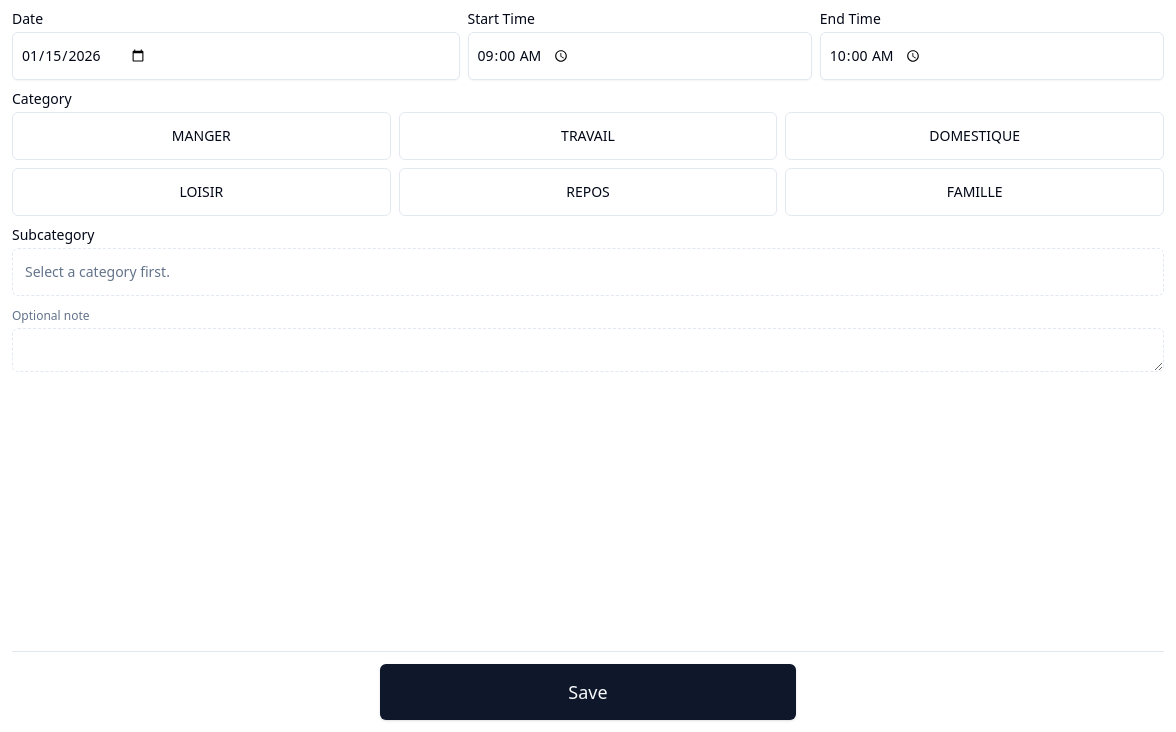
it: ActivityForm › disables submit and fields while saving
Click the button "TRAVAIL" at point(588, 136), box [399,112,777,160]
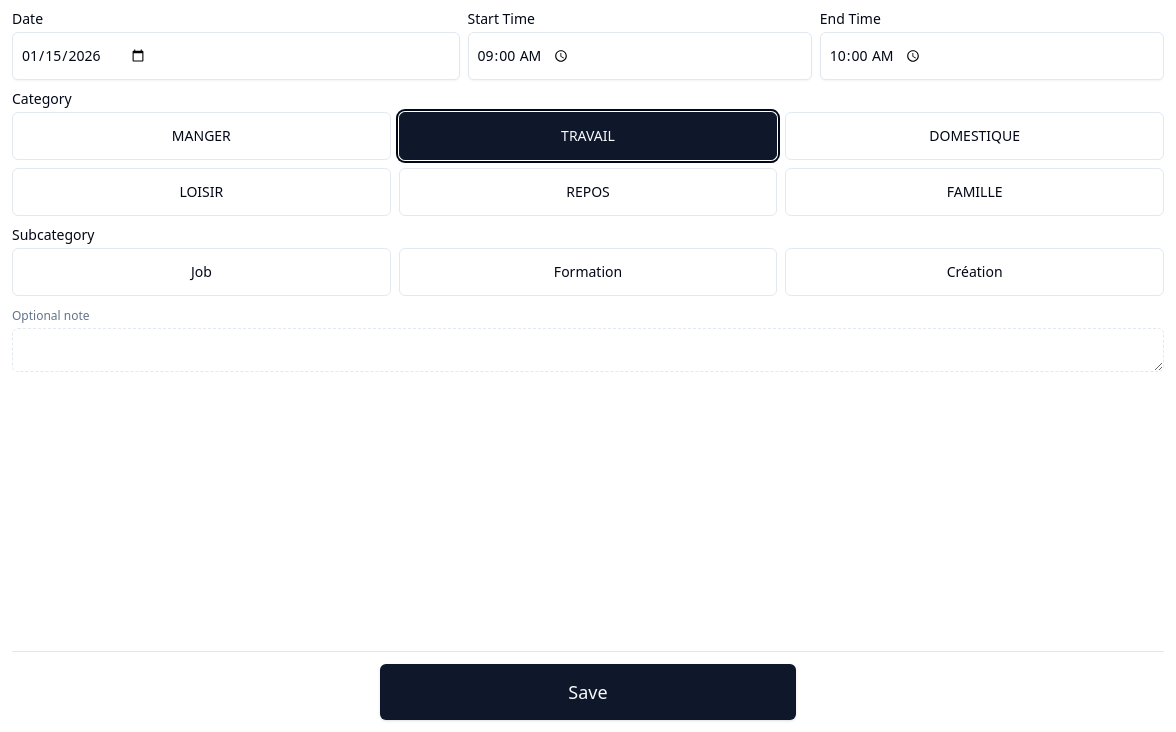
Click the button "Job" at point(201, 272), box [12,248,391,296]
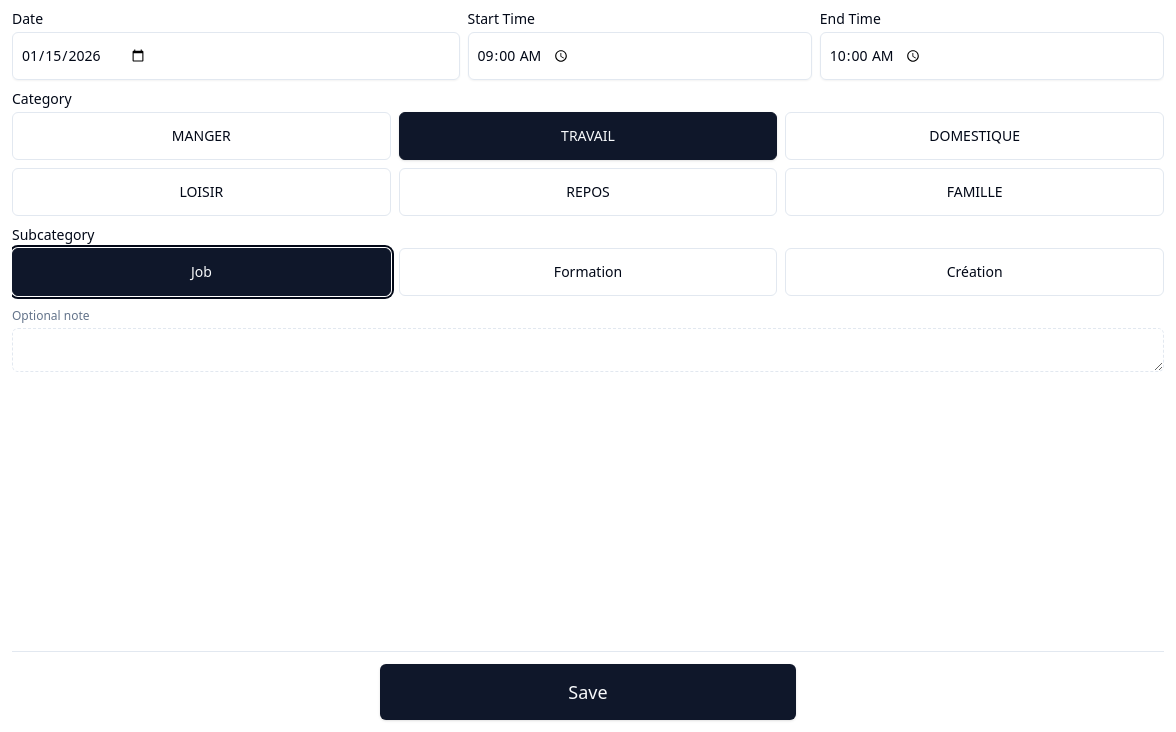
Click the button "Save" at point(588, 692), box [380,664,796,720]
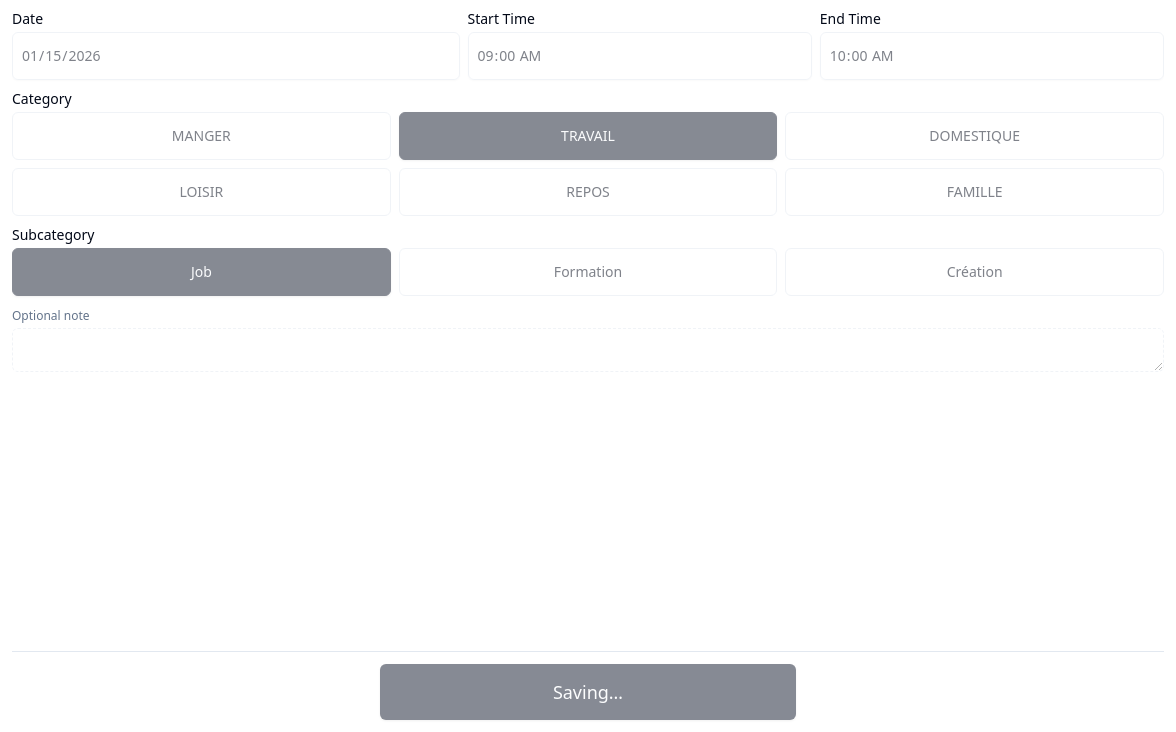
expect the button "Saving…" is disabled: met, box [380,664,796,720]
expect the date field labelled "Date" is disabled: met, box [12,32,460,80]
expect the button "MANGER" is disabled: met, box [12,112,391,160]
Submit the form named "Saving…", box [12,12,1164,372]
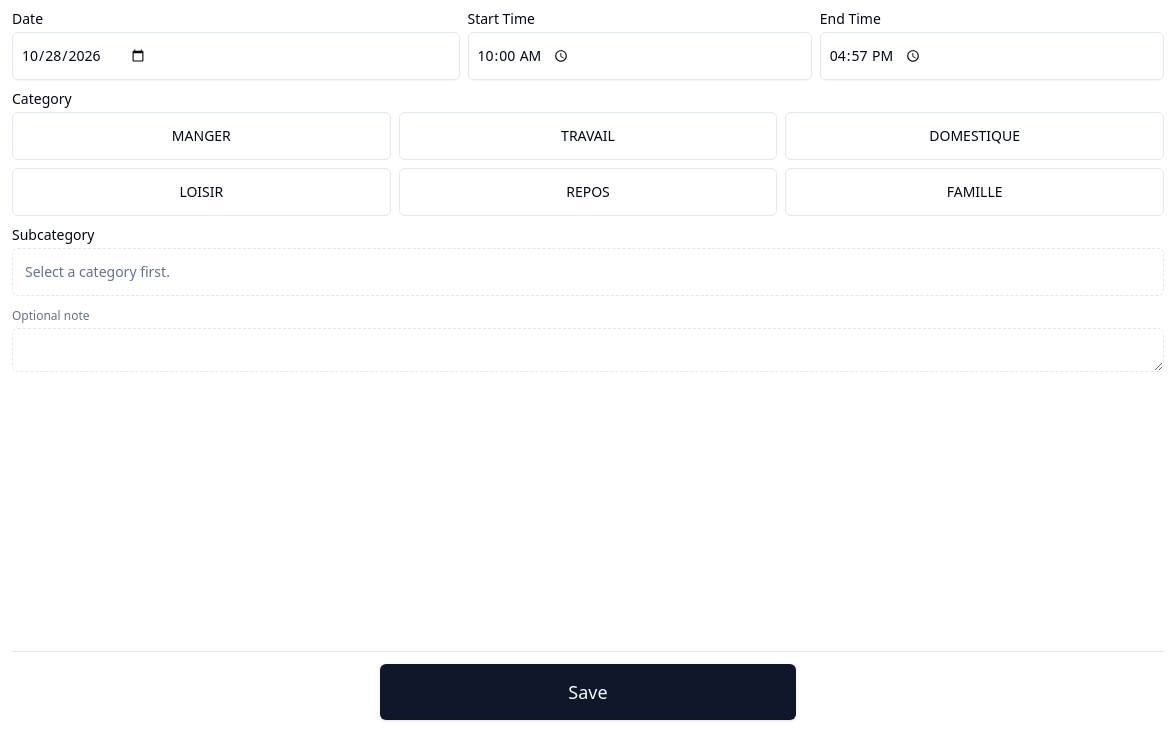
expect the button "Save" is enabled: met, box [380,664,796,720]
